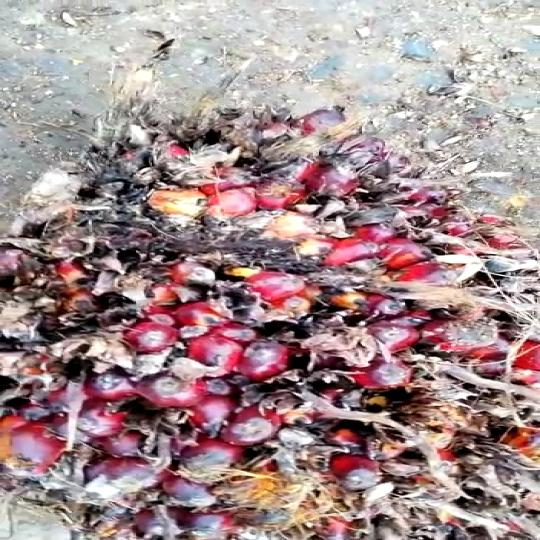terlalu masak: (4, 102, 540, 540)
